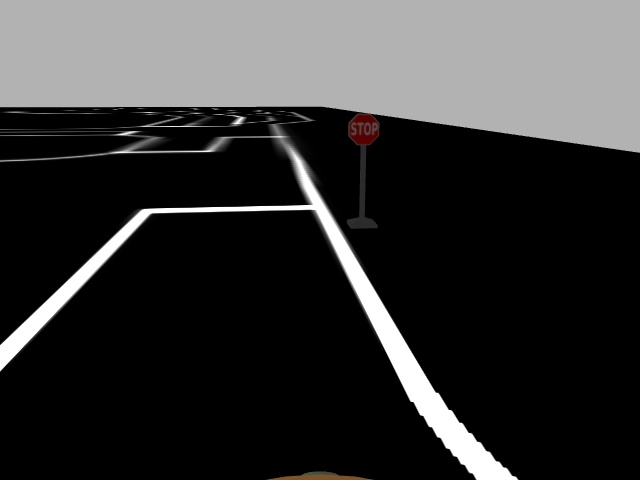stop: (344, 111, 384, 148)
